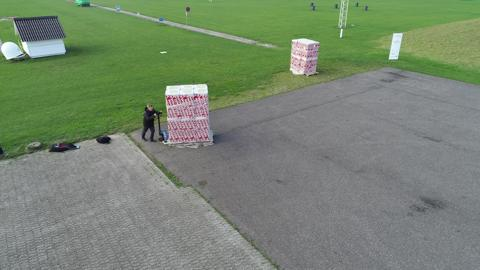RockwoolPallet: (165, 86, 210, 141)
